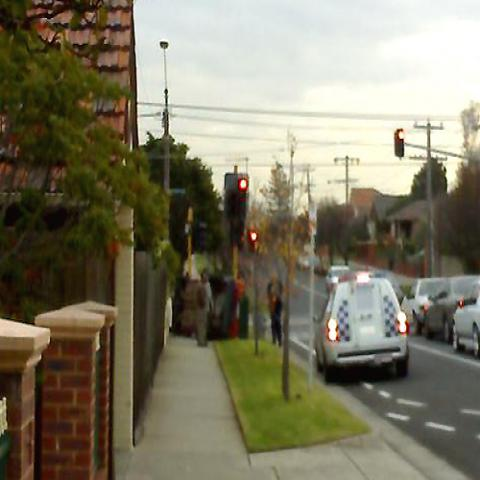car: (313, 263, 410, 383), (422, 275, 480, 342), (400, 278, 446, 335), (450, 280, 480, 359), (296, 253, 310, 269)
